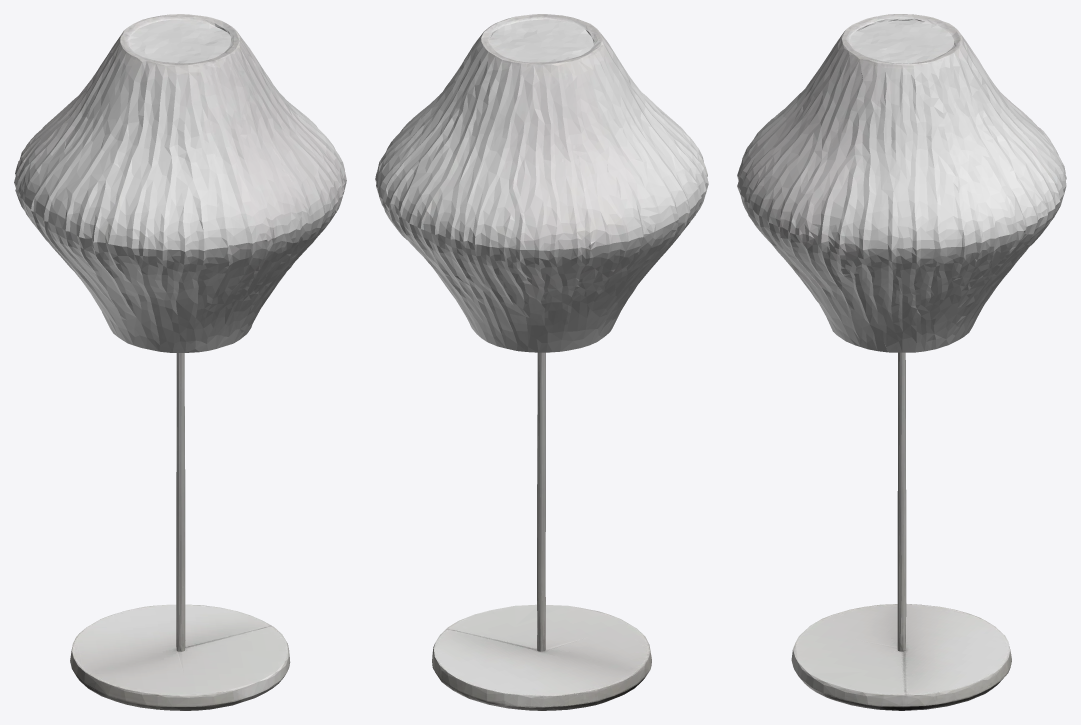
The picture shows the model from 3 angles, left to right: view 1: azimuth 30°, elevation 25°; view 2: azimuth 150°, elevation 25°; view 3: azimuth 270°, elevation 25°; orthographic projection.
Visible parts, largest first — view 1: world; view 2: world; view 3: world.
Part boxes in pixels (x1,y1,x2,y2): world: [14, 14, 346, 710]; world: [375, 14, 708, 710]; world: [737, 14, 1066, 710].
Size of the model in its own units: 0.4773 by 1 by 0.4768.
Materials: 1 (1 with a texture image).
